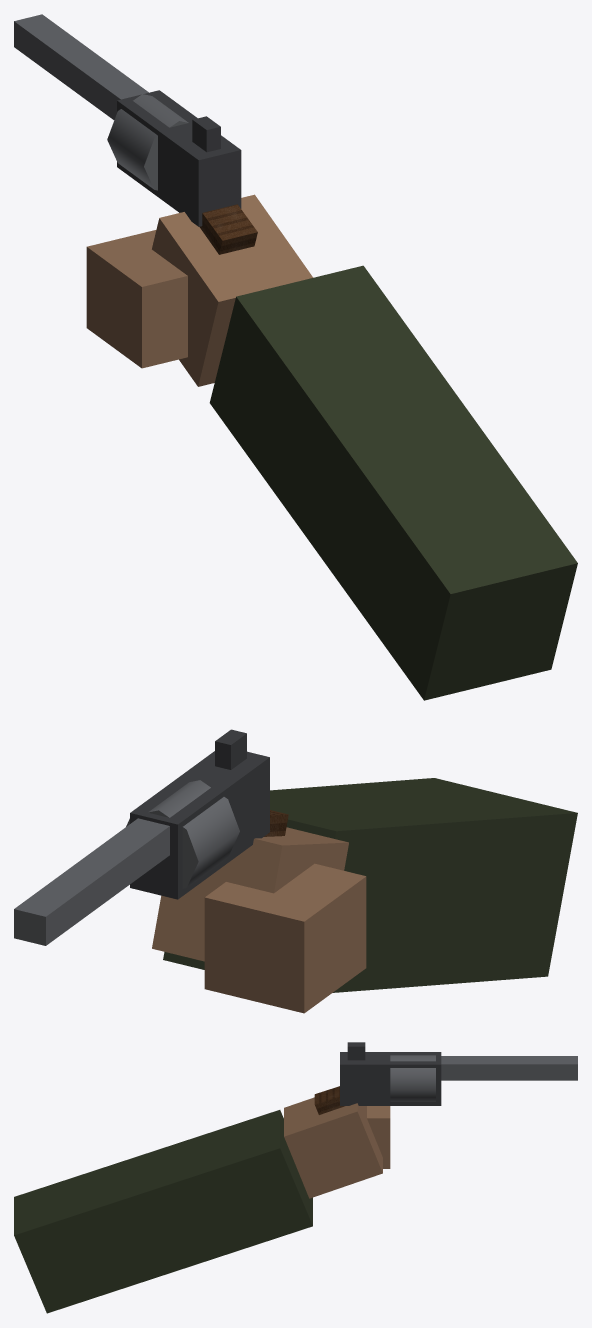
Rendered from revolver.glb.
3 renders of one model, top to bottom at view 1: azimuth 30°, elevation 25°; view 2: azimuth 150°, elevation 25°; view 3: azimuth 270°, elevation 25°, orthographic. The views are drawn at different scales.
Visible parts, largest first — view 1: revolver_4, revolver_3, revolver_1, revolver_0, revolver_2; view 2: revolver_4, revolver_3, revolver_1, revolver_0, revolver_2; view 3: revolver_4, revolver_3, revolver_1, revolver_0, revolver_2.
Boxes of the visible parts, left/top/right/bottom form: revolver_4: left=209, top=265, right=577, bottom=700; revolver_3: left=86, top=194, right=313, bottom=386; revolver_1: left=14, top=14, right=188, bottom=190; revolver_0: left=117, top=90, right=241, bottom=226; revolver_2: left=199, top=204, right=257, bottom=254; revolver_4: left=163, top=778, right=577, bottom=992; revolver_3: left=152, top=827, right=366, bottom=1013; revolver_1: left=14, top=780, right=239, bottom=945; revolver_0: left=130, top=729, right=269, bottom=899; revolver_2: left=264, top=810, right=288, bottom=836; revolver_4: left=14, top=1110, right=312, bottom=1313; revolver_3: left=284, top=1097, right=390, bottom=1198; revolver_1: left=390, top=1055, right=577, bottom=1101; revolver_0: left=340, top=1042, right=441, bottom=1105; revolver_2: left=314, top=1086, right=344, bottom=1114.
Bounding box in the file's own units: 0.2371 × 0.4669 × 0.9934.
Materials: 5 (1 with a texture image).
